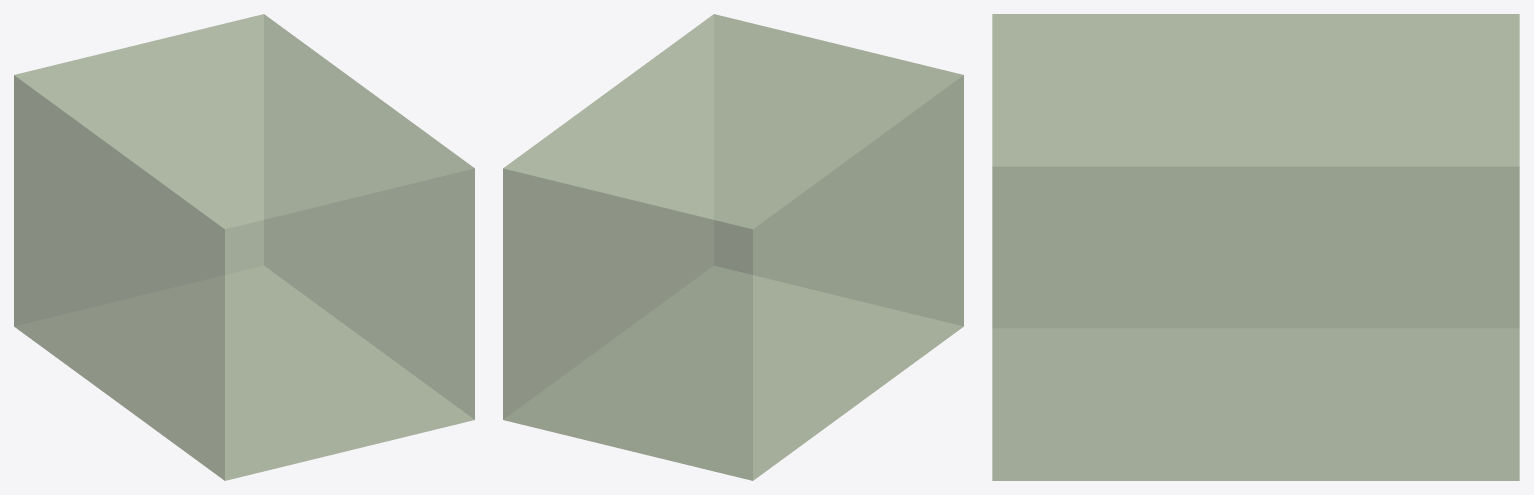
The model's file is blockout.glb.
3 renders of one model, left to right at view 1: azimuth 30°, elevation 25°; view 2: azimuth 150°, elevation 25°; view 3: azimuth 270°, elevation 25°, orthographic. The views are drawn at different scales.
Visible parts, largest first — view 1: U25_ENVELOPE_NOT_FINAL_MESH; view 2: U25_ENVELOPE_NOT_FINAL_MESH; view 3: U25_ENVELOPE_NOT_FINAL_MESH.
Boxes of the visible parts, box(x1,y1,x2,y2) form: U25_ENVELOPE_NOT_FINAL_MESH: box(14, 14, 474, 480); U25_ENVELOPE_NOT_FINAL_MESH: box(503, 14, 963, 480); U25_ENVELOPE_NOT_FINAL_MESH: box(992, 14, 1519, 480).
Size of the model in its own units: 1.3 by 1.25 by 1.9.
